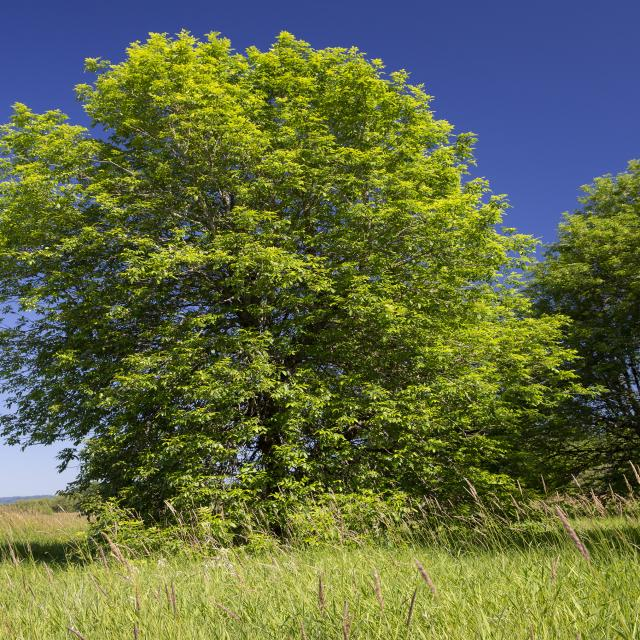Fraxinus latifolia: (0, 27, 527, 553)
